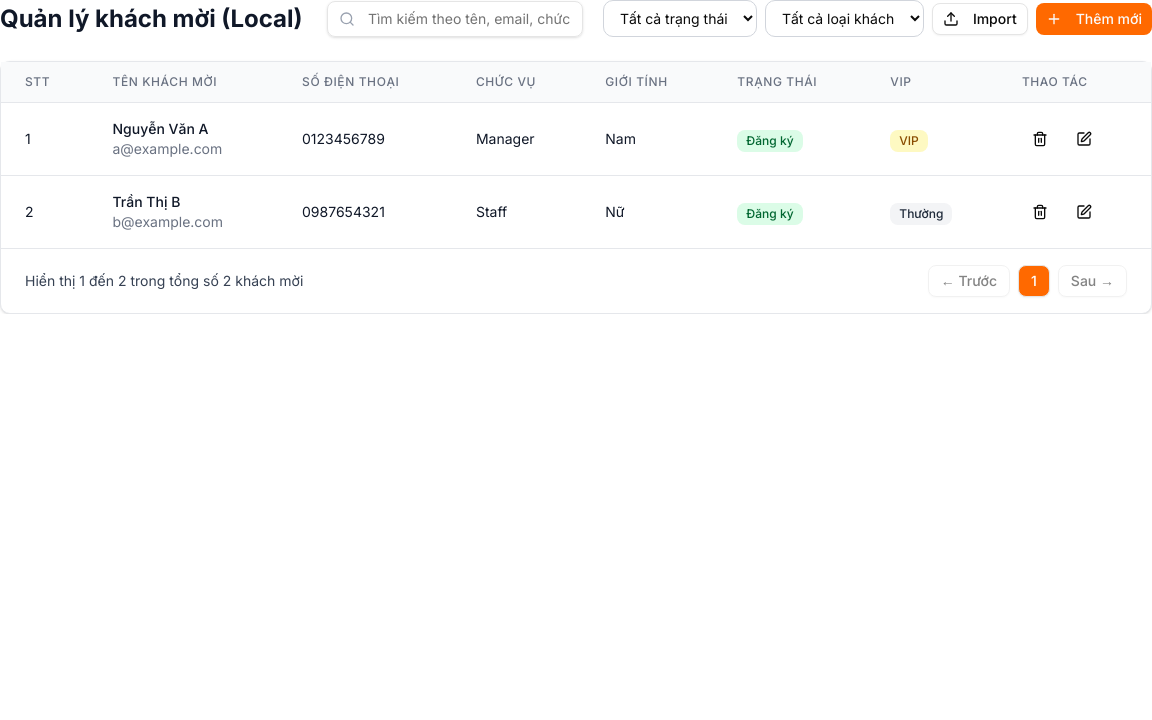
Scenario: QuanLyKhachMoiLocalPage (SUPERADMIN) › should open edit modal and fetch full person data
The image size is (1152, 720).
Expected: the text "Nguyễn Văn A" is shown, x1=112 y1=119 x2=222 y2=139
Click edit button - tìm button edit chính xác hơn
Click the 4th button at [1084, 139], box x1=1066 y1=123 x2=1102 y2=155
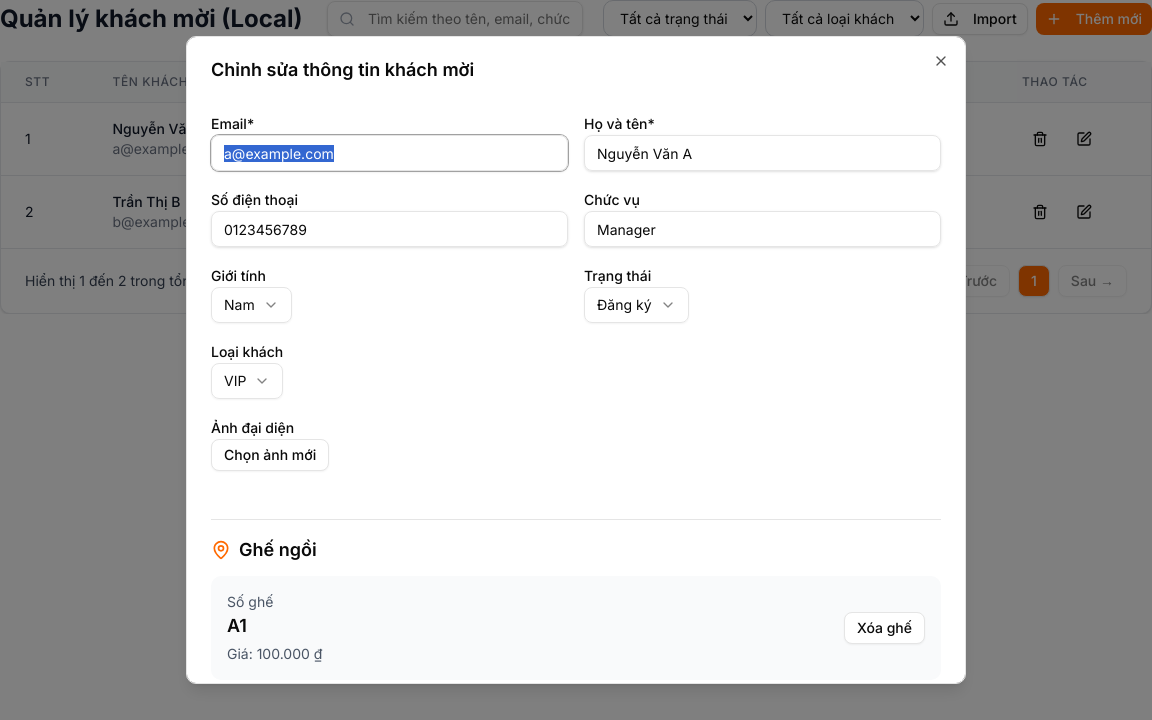
Expected: the heading "Chỉnh sửa thông tin khách mời" is shown, x1=211 y1=59 x2=474 y2=80
